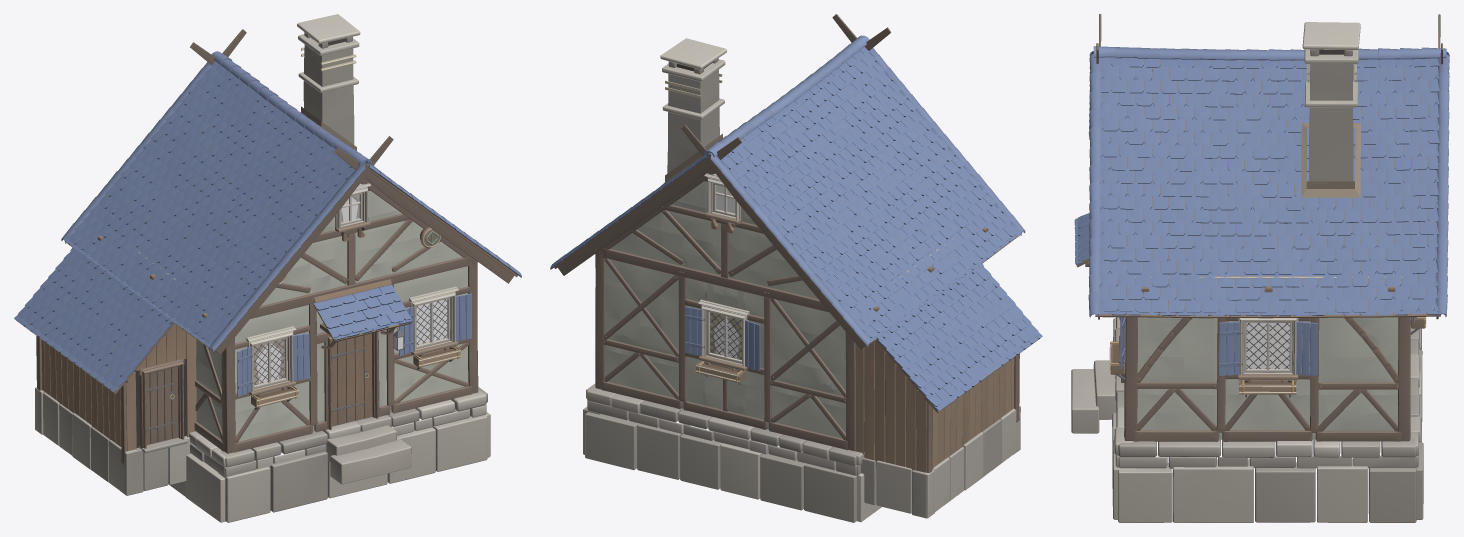
Rendered from bd_house_dodam.glb.
3 renders of one model, left to right at view 1: azimuth 30°, elevation 25°; view 2: azimuth 150°, elevation 25°; view 3: azimuth 270°, elevation 25°, orthographic. The views are drawn at different scales.
Visible parts, largest first — view 1: BD_house_dodam__body; view 2: BD_house_dodam__body; view 3: BD_house_dodam__body.
Boxes of the visible parts, x1=… form: BD_house_dodam__body: x1=14, y1=14, x2=521, y2=522; BD_house_dodam__body: x1=550, y1=14, x2=1042, y2=522; BD_house_dodam__body: x1=1071, y1=14, x2=1449, y2=522.
Size of the model in its own units: 8.91 by 8.84 by 6.76.
